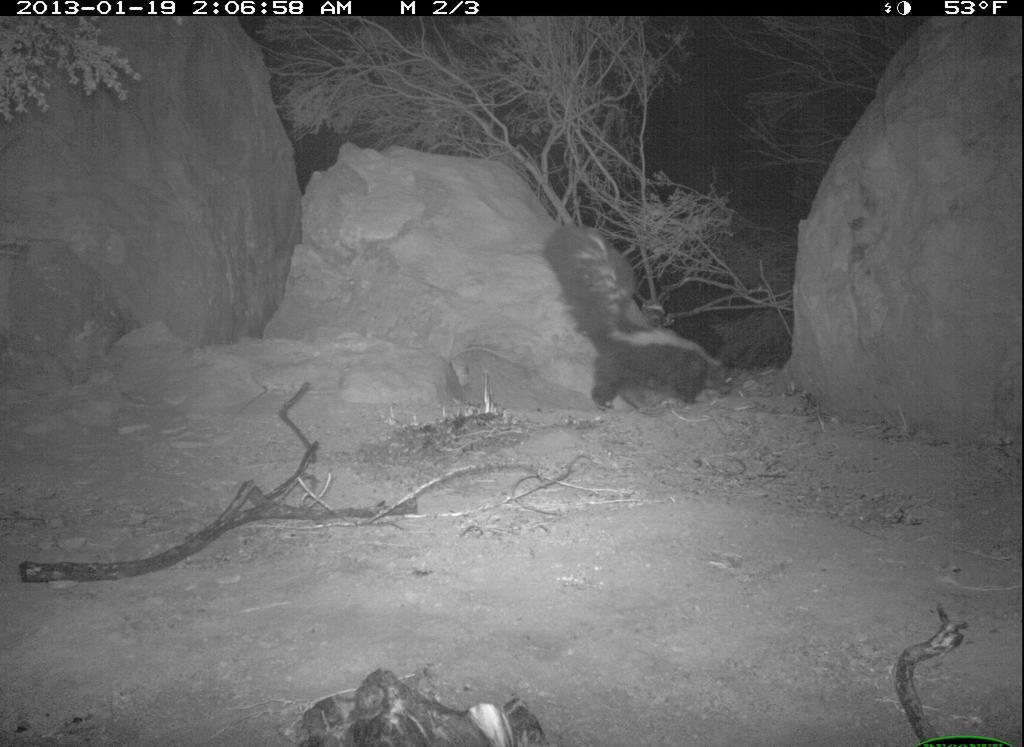skunk: (542, 216, 747, 422)
